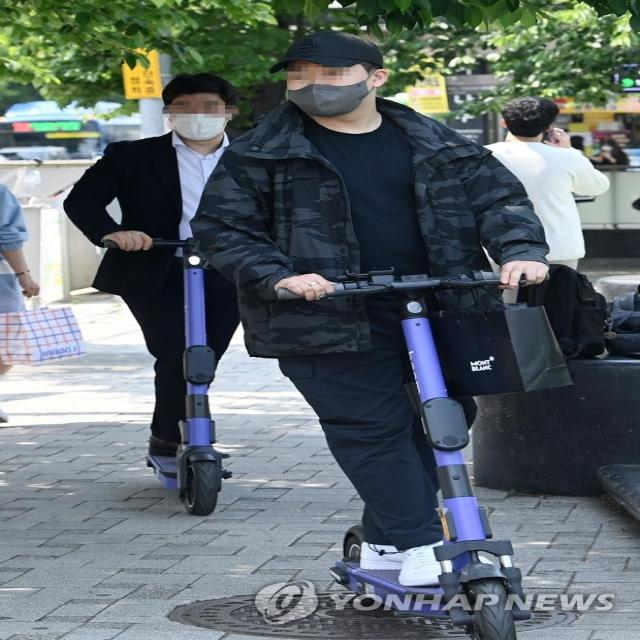helmet: (137, 29, 590, 630)
